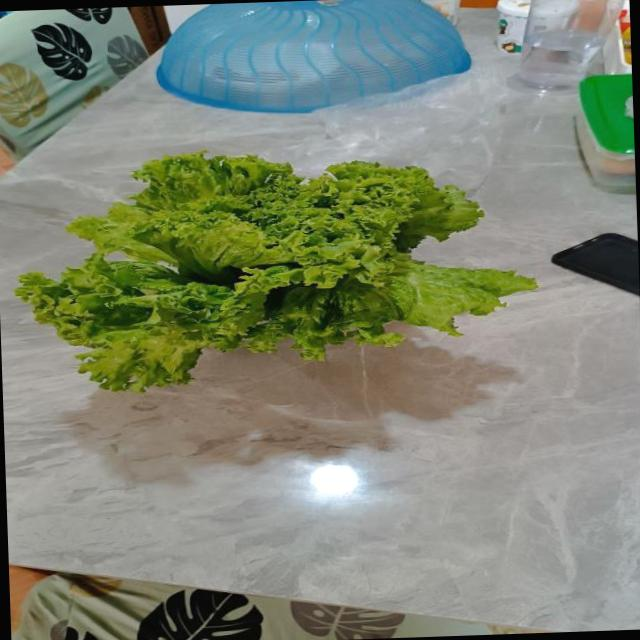Lettuce-Ready-to-Harvest: (15, 152, 535, 391)
